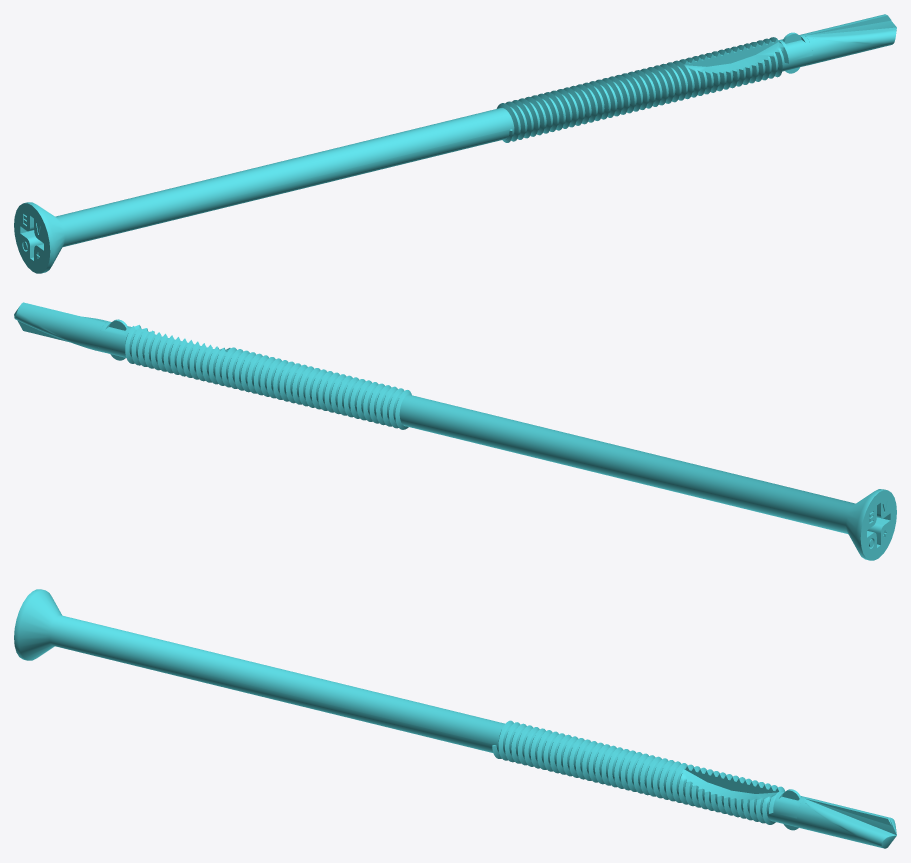
The picture shows the model from 3 angles, top to bottom: view 1: azimuth 30°, elevation 25°; view 2: azimuth 150°, elevation 25°; view 3: azimuth 330°, elevation 25°; orthographic projection.
Parts seen in each view (by area): view 1: Object_2; view 2: Object_2; view 3: Object_2.
Part boxes in pixels (left/top/right/bottom): Object_2: left=14, top=14, right=896, bottom=273; Object_2: left=14, top=302, right=896, bottom=560; Object_2: left=14, top=589, right=896, bottom=848.
Size of the model in its own units: 1 by 0.0727 by 0.0727.
